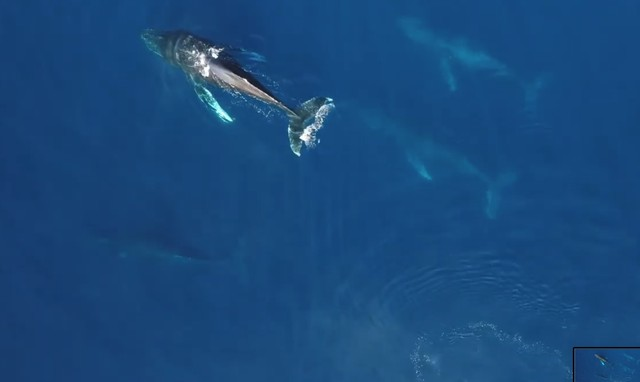whale: (133, 24, 340, 159), (343, 98, 523, 222), (384, 14, 561, 122)
